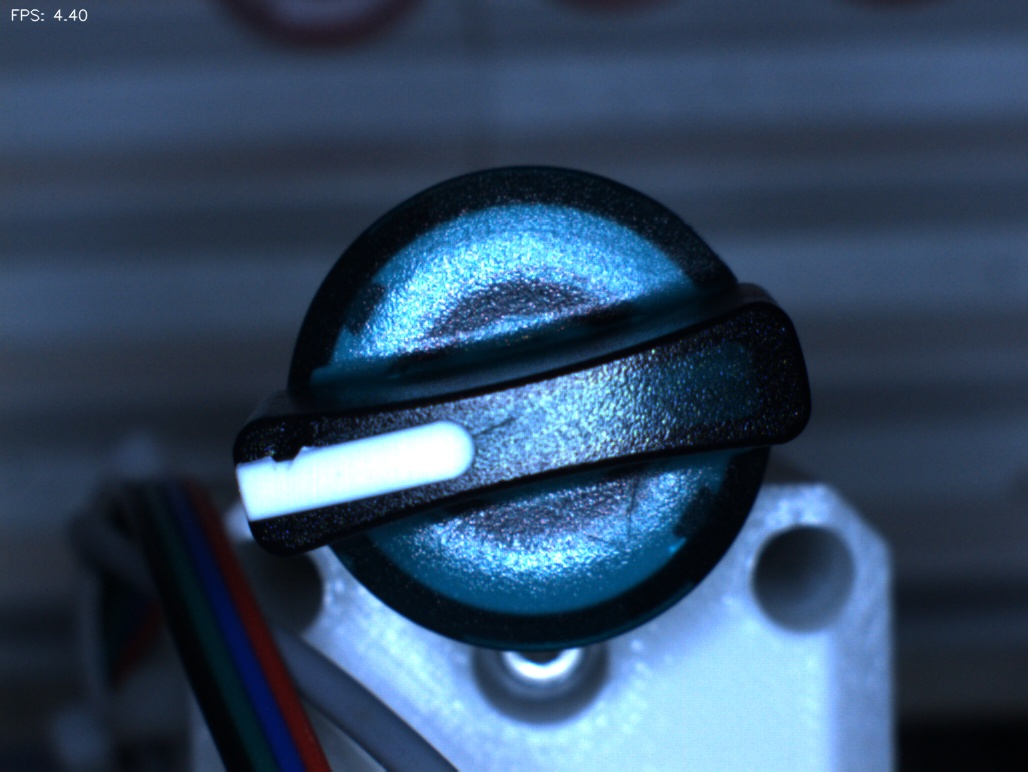Choc: (251, 422, 316, 487)
